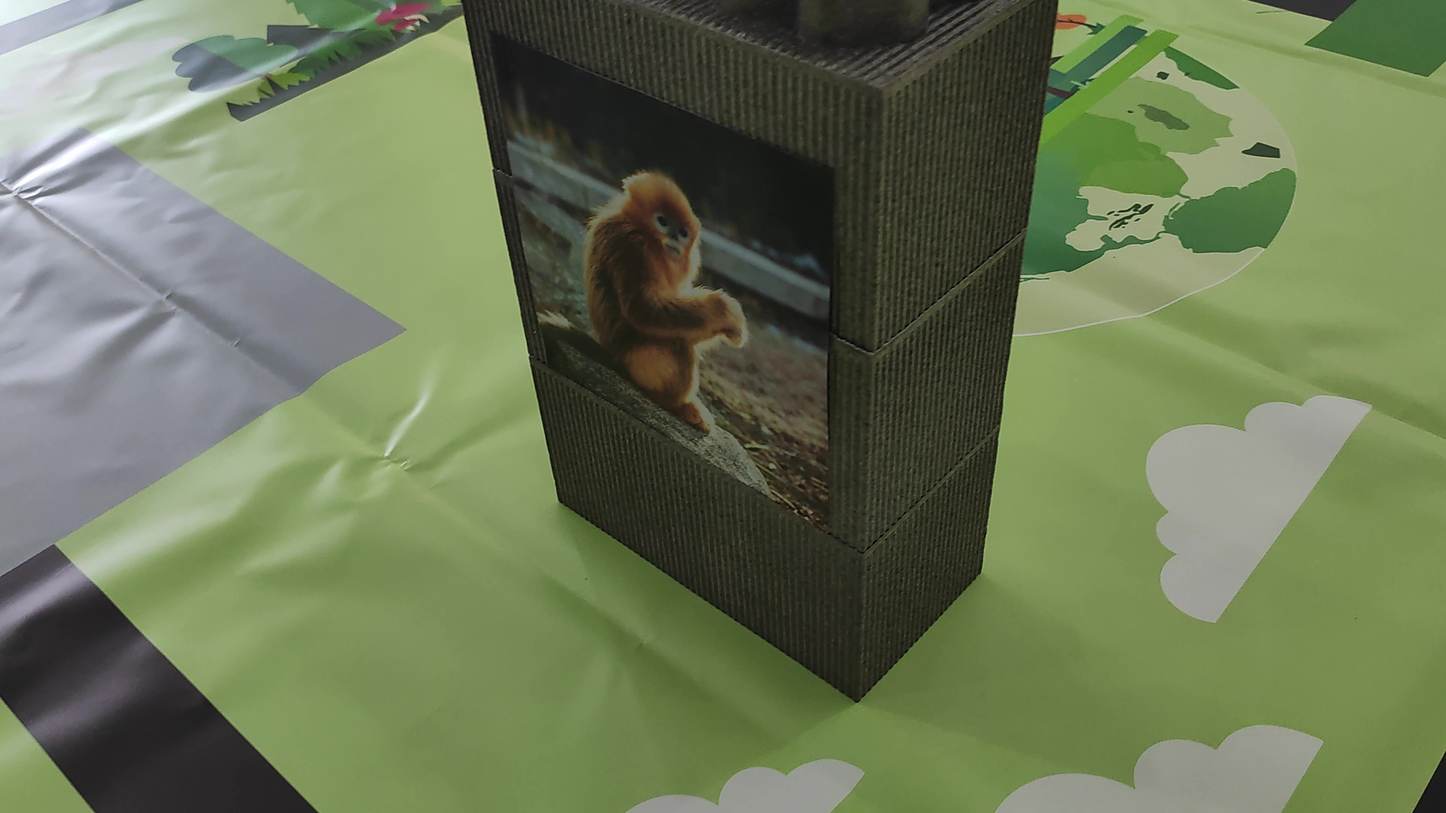monkey: (496, 51, 831, 504)
